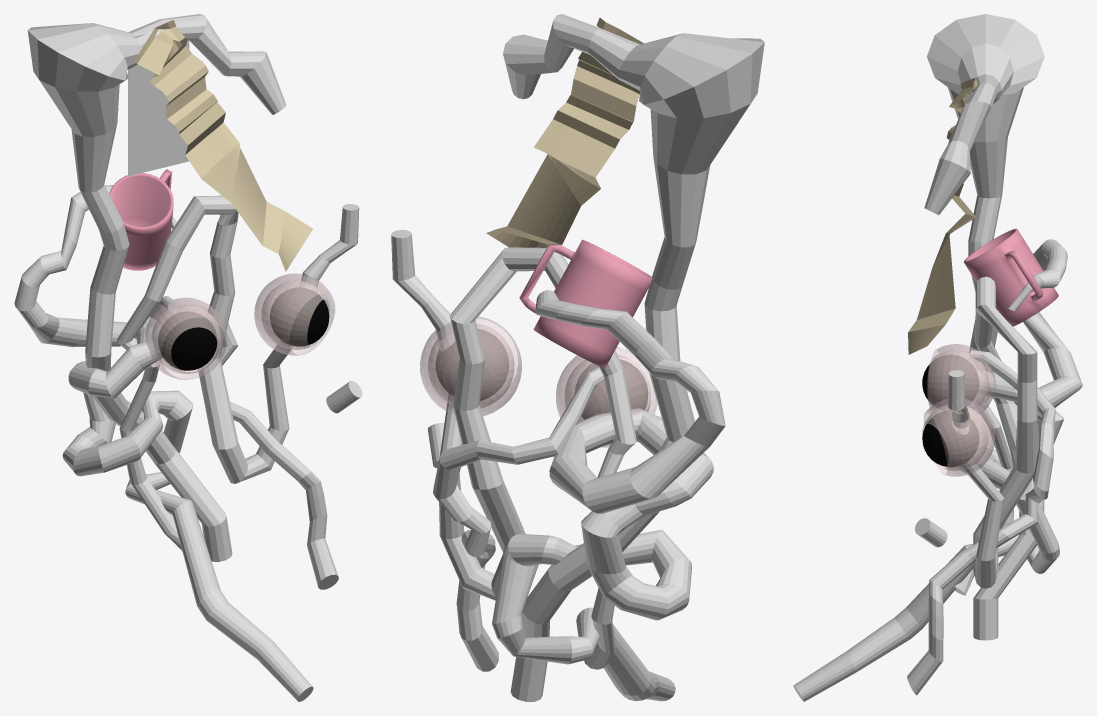
3 renders of one model, left to right at view 1: azimuth 30°, elevation 25°; view 2: azimuth 150°, elevation 25°; view 3: azimuth 270°, elevation 25°, orthographic. The views are drawn at different scales.
Visible parts, largest first — view 1: kost, Cylinder, kiski, paper big, kiski.001, mug, Plane, lid.001, belok.002, belok.001, belok.003, lid (+2 smaller); view 2: Cylinder, kost, kiski, paper big, kiski.001, mug, lid.001, belok.002, lid, belok, belok.003, belok.001; view 3: kost, Cylinder, kiski, kiski.001, mug, paper big, lid.001, lid, belok.002, belok, belok.003, belok.001 (+1 smaller).
Boxes of the visible parts, box(x1,y1,x2,y2) form: kost: box(27, 14, 286, 561); Cylinder: box(14, 185, 313, 701); kiski: box(116, 195, 359, 551); paper big: box(135, 20, 312, 271); kiski.001: box(149, 296, 338, 589); mug: box(109, 169, 173, 270); Plane: box(128, 34, 189, 176); lid.001: box(254, 273, 334, 355); belok.002: box(261, 280, 329, 349); belok.001: box(158, 311, 217, 370); belok.003: box(270, 287, 329, 346); lid: box(145, 297, 226, 379); Cylinder: box(492, 290, 725, 701); kost: box(503, 14, 764, 701); kiski: box(391, 230, 636, 669); paper big: box(486, 17, 643, 247); kiski.001: box(433, 367, 604, 671); mug: box(519, 239, 652, 368); lid.001: box(420, 316, 521, 416); belok.002: box(428, 323, 514, 408); lid: box(556, 347, 657, 447); belok: box(564, 354, 650, 422); belok.003: box(436, 329, 508, 400); belok.001: box(575, 359, 647, 419); kost: box(924, 14, 1044, 640); Cylinder: box(793, 239, 1082, 701); kiski: box(947, 276, 1038, 595); kiski.001: box(907, 350, 1055, 695); mug: box(964, 228, 1058, 326); paper big: box(908, 77, 977, 354); lid.001: box(924, 399, 995, 476); lid: box(928, 344, 995, 414); belok.002: box(921, 405, 988, 470); belok: box(927, 350, 988, 406); belok.003: box(922, 410, 978, 466); belok.001: box(922, 355, 978, 404).
Size of the model in its own units: 2.17 by 4.29 by 1.85.
